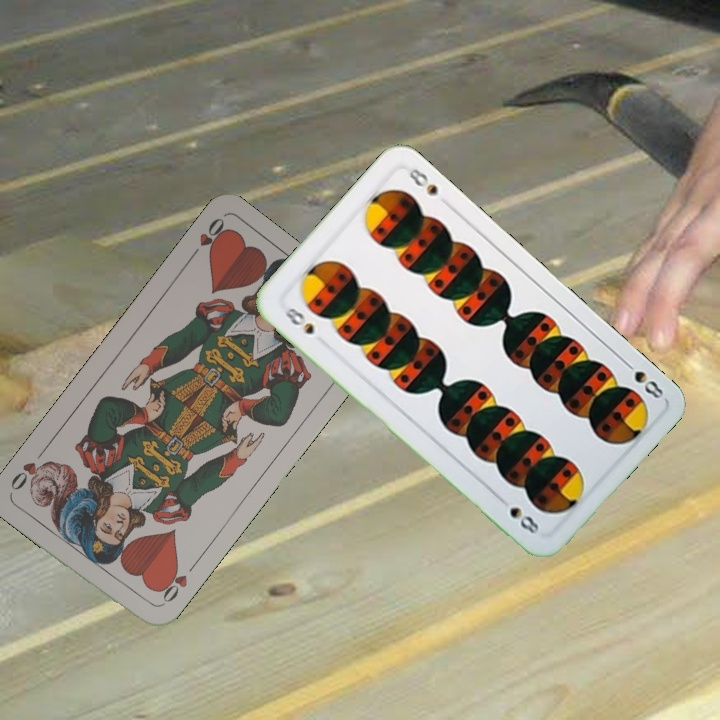HO: (184, 213, 231, 264), (153, 559, 199, 609)
S8: (618, 355, 666, 402), (279, 303, 317, 337)
